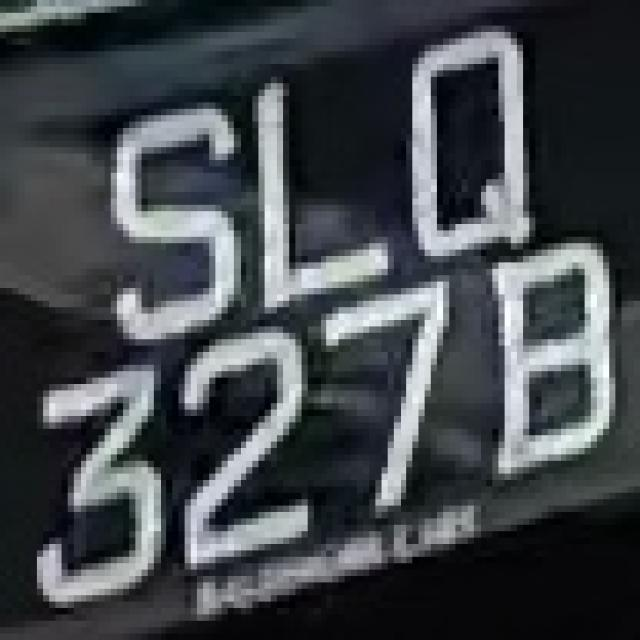2: (160, 332, 332, 570)
3: (31, 371, 191, 634)
7: (289, 294, 468, 544)
B: (468, 237, 622, 486)
L: (252, 70, 388, 314)
Q: (382, 25, 572, 268)
S: (80, 90, 246, 358)
